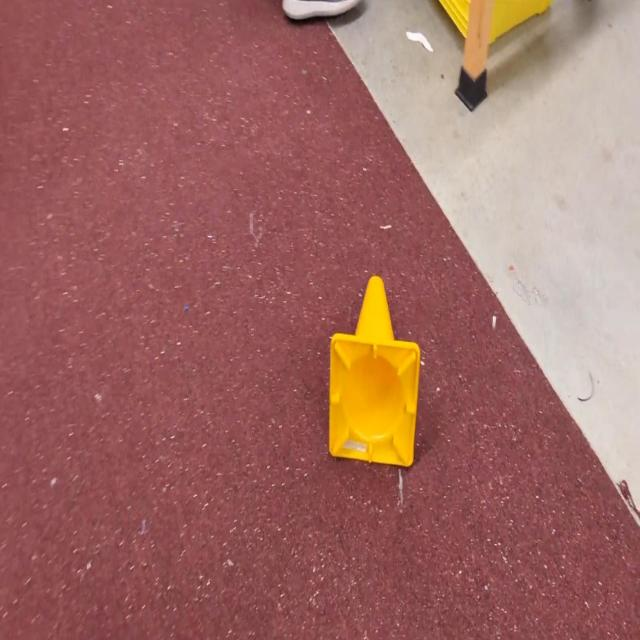frc_cone: (329, 273, 420, 467)
